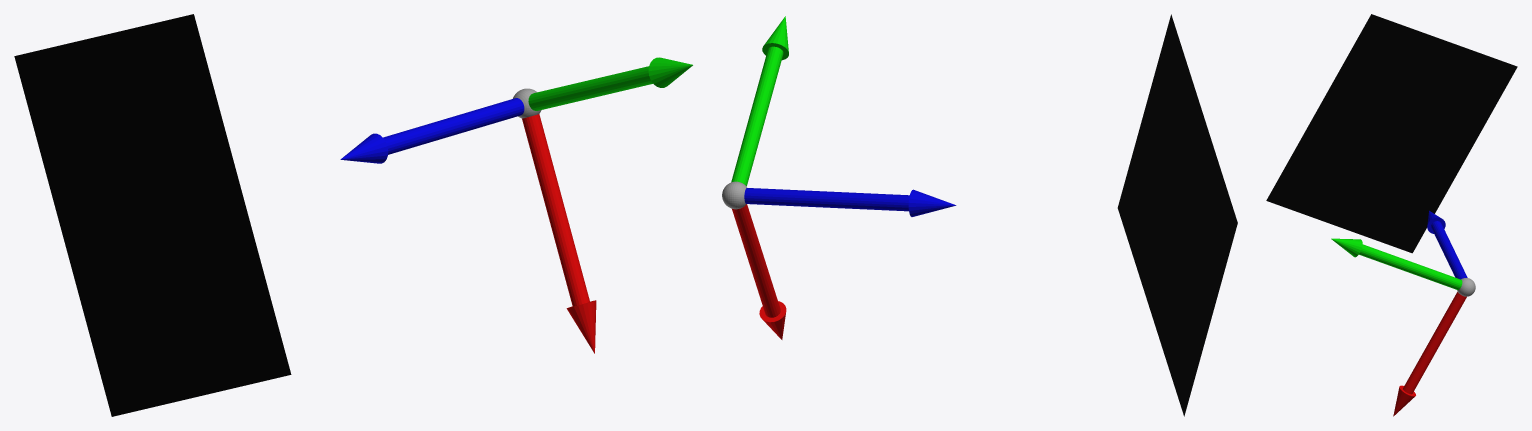
3 renders of one model, left to right at view 1: azimuth 30°, elevation 25°; view 2: azimuth 150°, elevation 25°; view 3: azimuth 270°, elevation 25°, orthographic. The views are drawn at different scales.
Bounding box in the file's own units: 0.2938 × 0.2423 × 0.1986.
